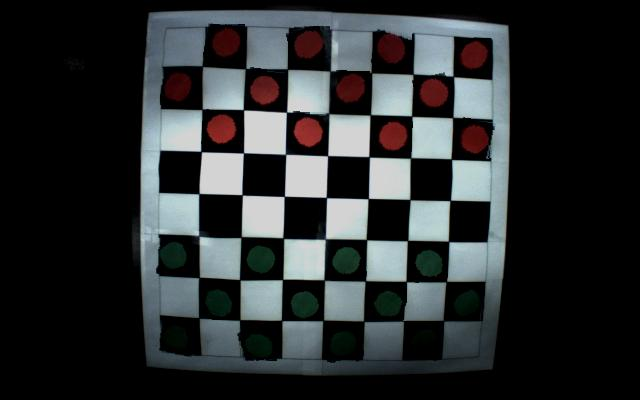g: (328, 243, 366, 280), (324, 325, 362, 362), (370, 283, 407, 321), (411, 244, 447, 282), (239, 327, 277, 361), (243, 241, 279, 276), (201, 284, 236, 320), (159, 321, 195, 356), (156, 239, 191, 274), (286, 286, 321, 321), (407, 324, 441, 360), (452, 287, 484, 321)
r: (288, 26, 330, 66), (204, 24, 245, 64), (372, 26, 412, 67), (202, 111, 244, 148), (246, 69, 285, 107), (414, 74, 452, 112), (374, 118, 412, 156), (333, 71, 370, 110), (458, 119, 495, 158), (291, 112, 326, 150), (160, 68, 195, 105), (457, 38, 492, 74)
